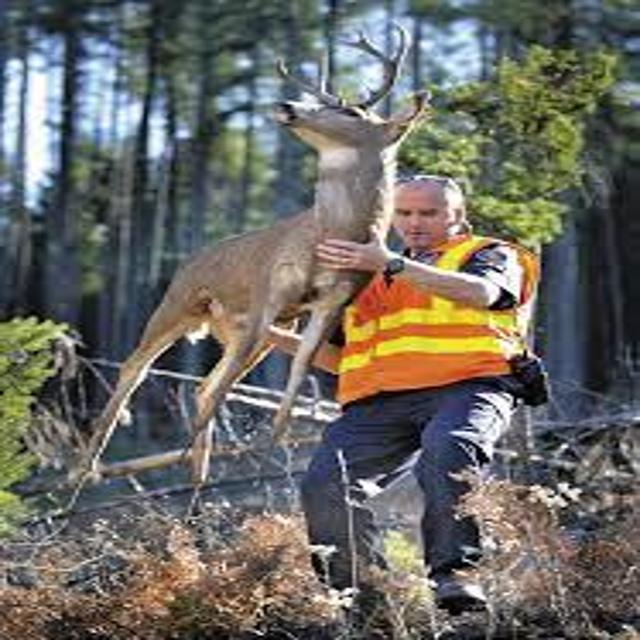deer: (52, 18, 463, 501)
poacher: (235, 161, 572, 626)
